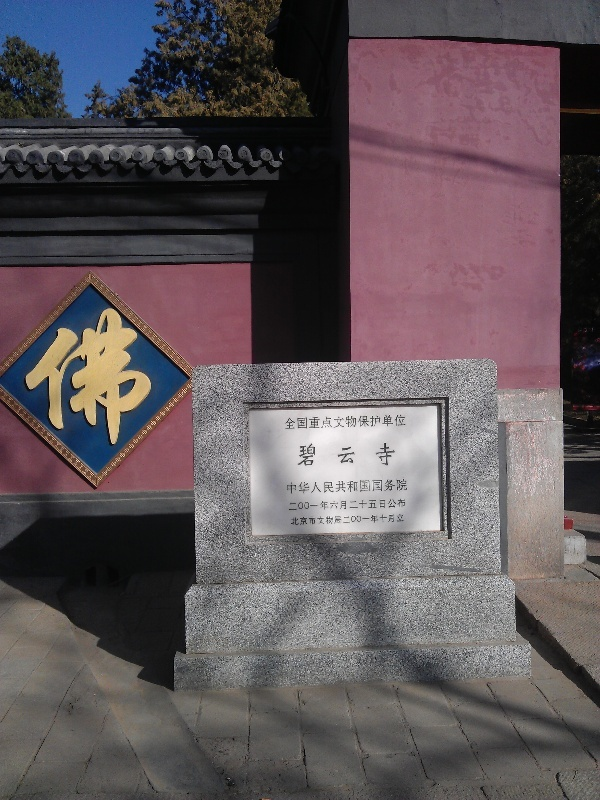text: (33, 308, 48, 445), (49, 308, 64, 445), (65, 308, 80, 445), (81, 308, 96, 445), (97, 308, 112, 445), (113, 308, 128, 445), (129, 308, 144, 445), (145, 308, 153, 445), (26, 308, 32, 445), (305, 442, 320, 468), (321, 442, 336, 468), (337, 442, 352, 468), (353, 442, 368, 468), (369, 442, 384, 468), (385, 442, 397, 468), (289, 414, 304, 430), (305, 414, 320, 430), (321, 414, 336, 430), (337, 414, 352, 430), (353, 414, 368, 430), (369, 414, 384, 430), (385, 414, 400, 430), (289, 478, 304, 494), (305, 478, 320, 494), (321, 478, 336, 494), (337, 478, 352, 494), (353, 478, 368, 494), (369, 478, 384, 494), (385, 478, 400, 494), (289, 499, 304, 512), (305, 499, 320, 512), (321, 499, 336, 512), (337, 499, 352, 512), (353, 499, 368, 512), (369, 499, 384, 512), (385, 499, 400, 512), (305, 514, 320, 527), (321, 514, 336, 527), (337, 514, 352, 527), (353, 514, 368, 527), (369, 514, 384, 527), (385, 514, 400, 527), (297, 442, 304, 468), (290, 514, 304, 527), (401, 414, 408, 430), (401, 478, 408, 494), (401, 499, 407, 512), (284, 414, 288, 430), (285, 478, 288, 494), (401, 514, 404, 527), (287, 499, 288, 512)
